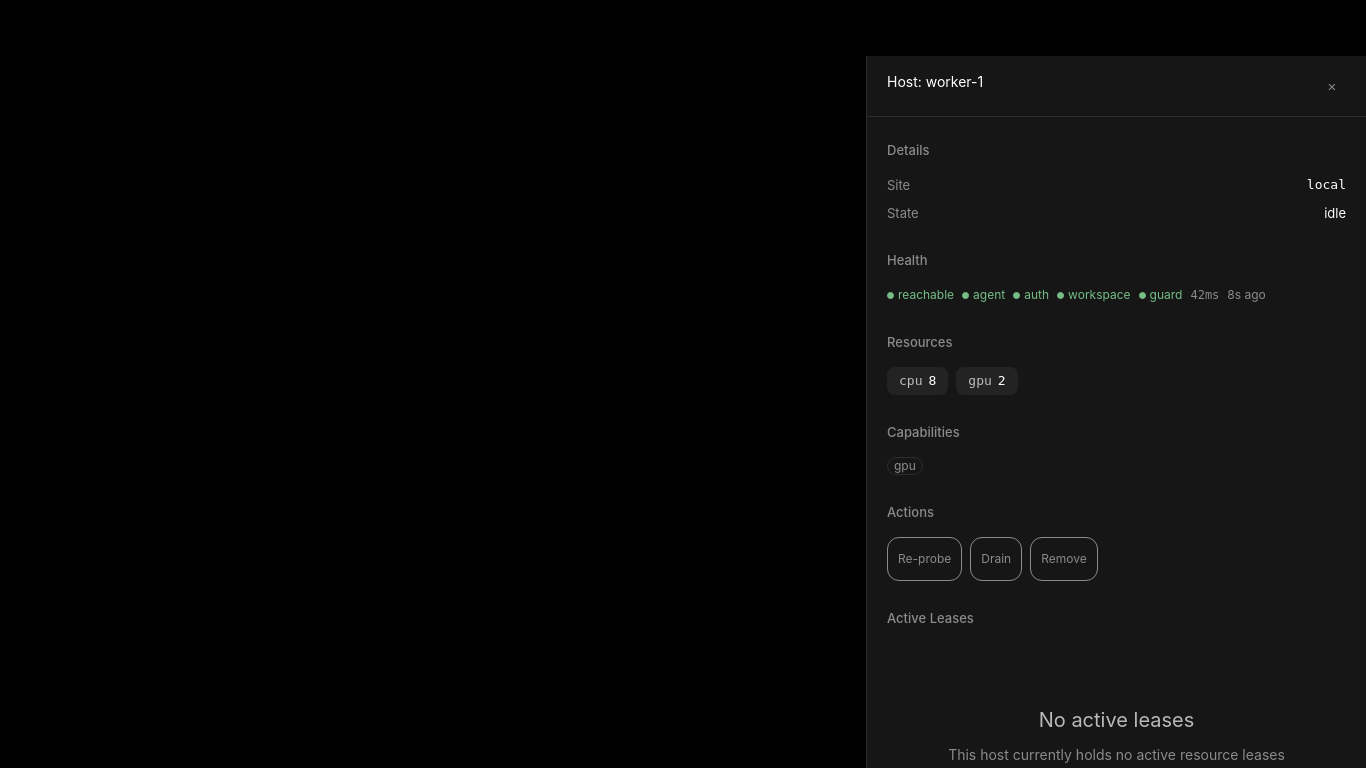
Test: CrewDrawer › should show confirmation dialog when Remove button is clicked
Click the button "Remove".
click(1064, 559)  # box [1030,537,1098,581]
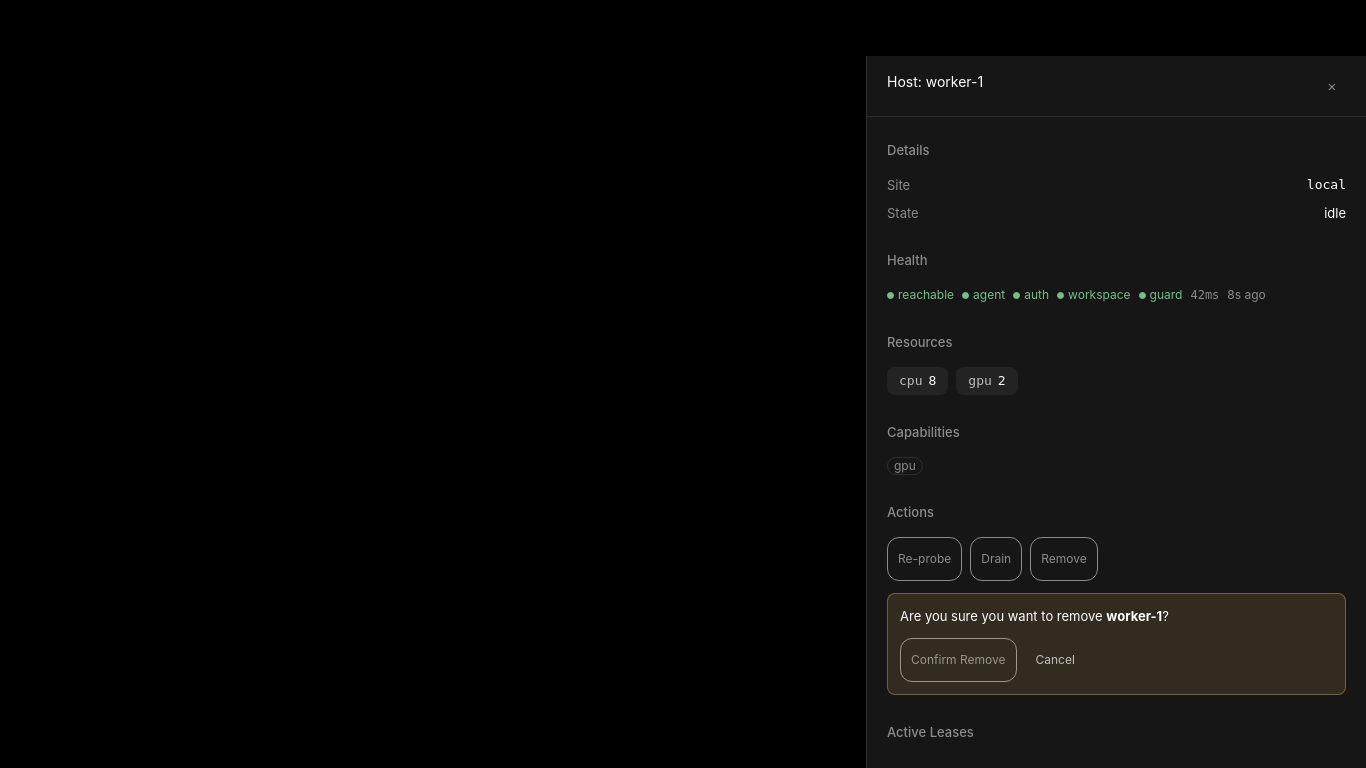
Result: the text "Are you sure you want to remove worker-1?" is shown at [900,608,1169,624]
